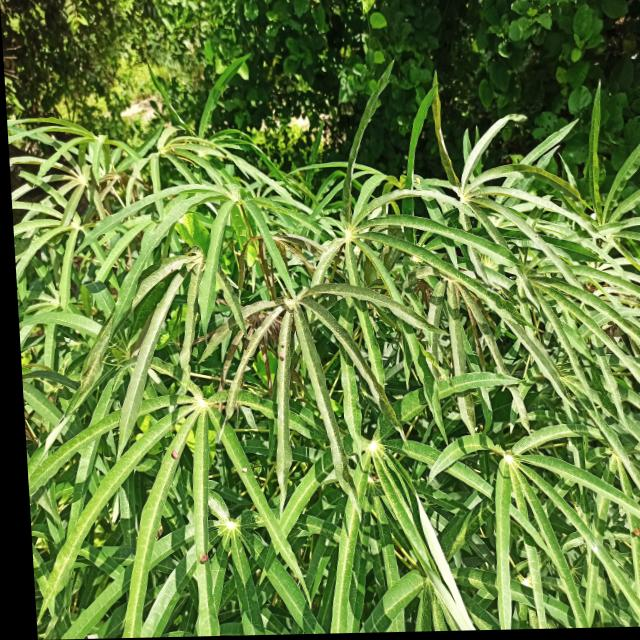Maleza: (271, 0, 634, 122), (0, 0, 294, 89)
Mosca: (192, 541, 215, 577), (275, 336, 296, 368), (360, 471, 383, 488)
